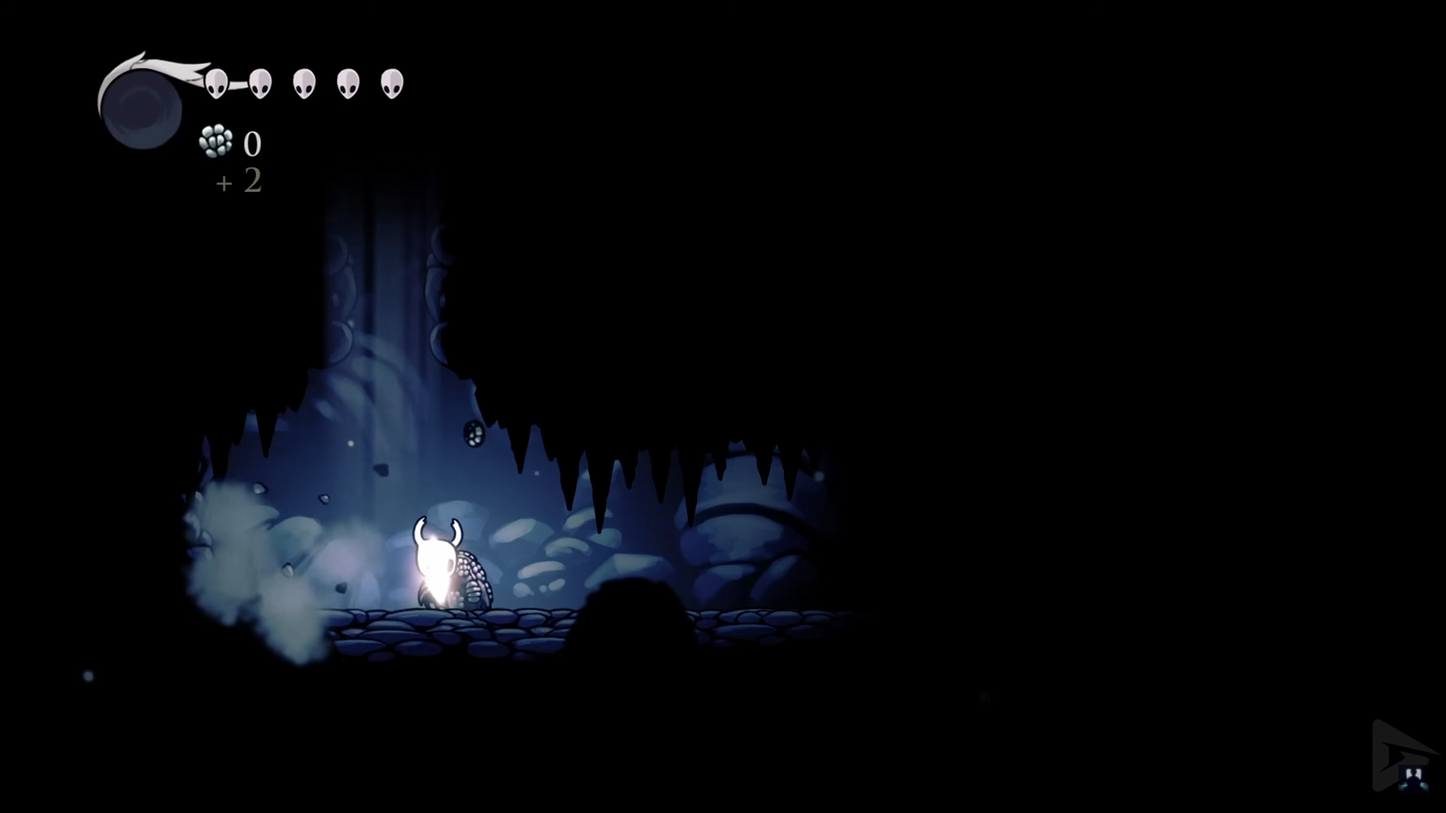HK: (407, 513, 465, 612)
